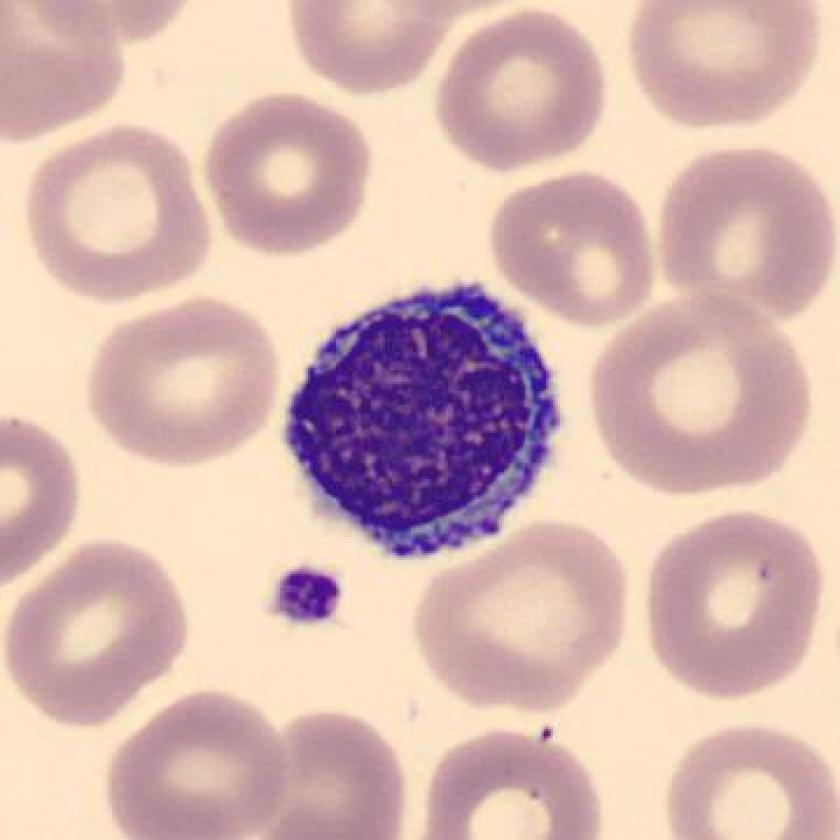lymphocyte: (265, 265, 575, 575)
